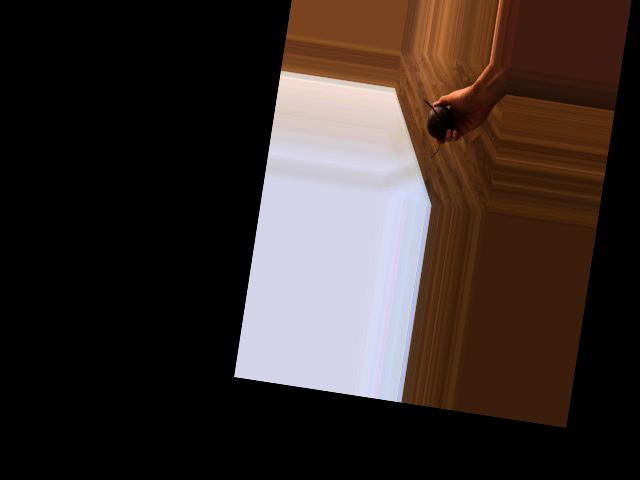beet: (415, 100, 455, 161)
